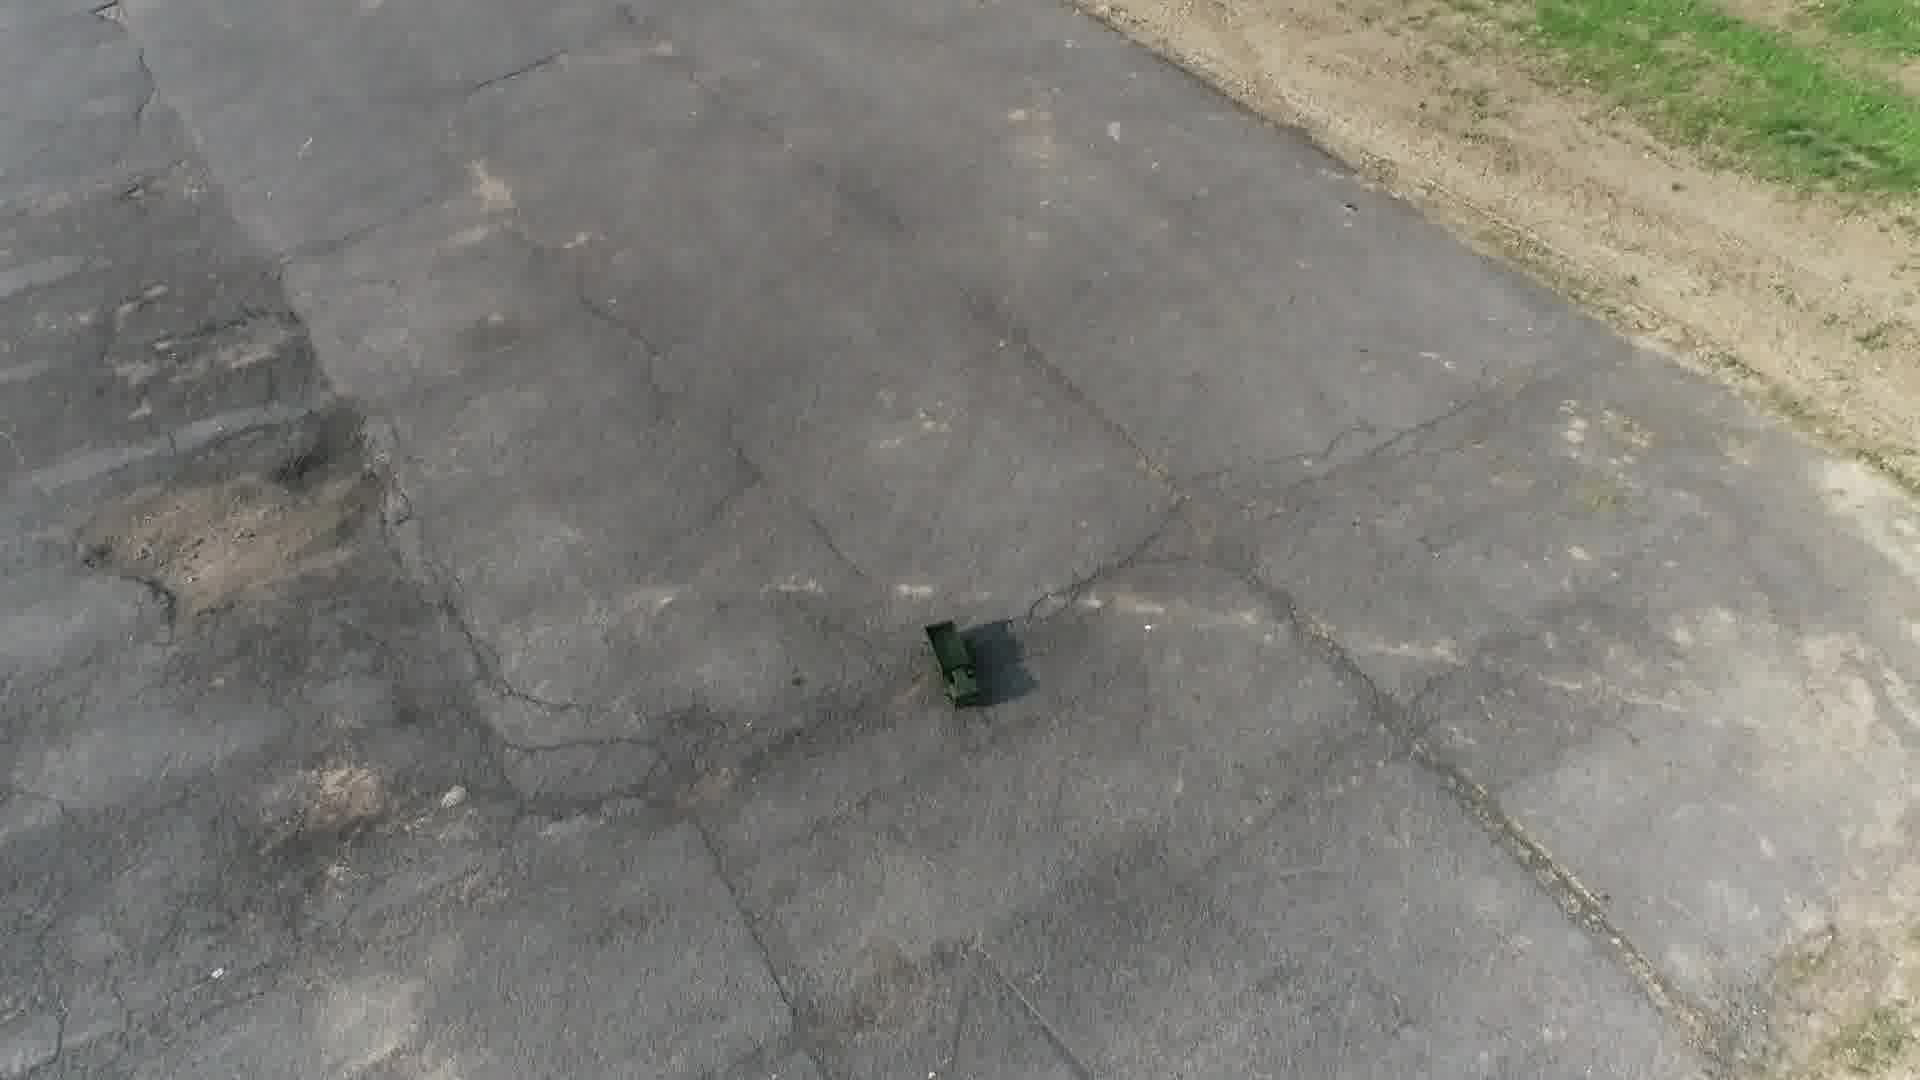transporter9: (920, 617, 986, 709)
